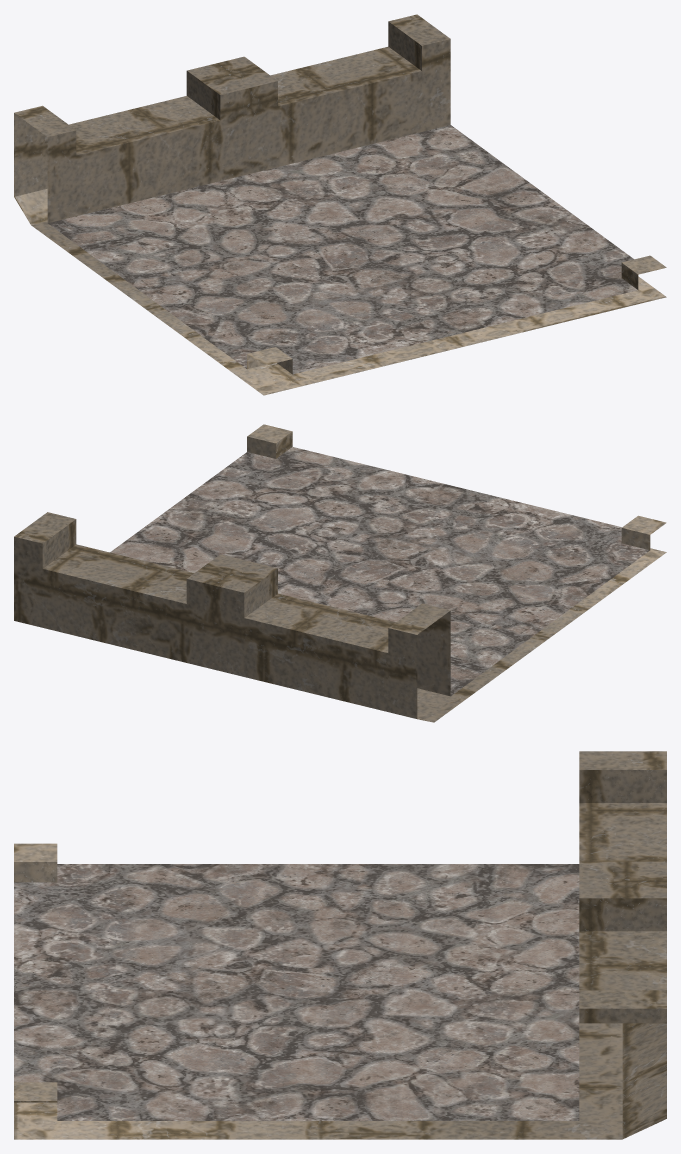
Rendered from ModuleRoofEdge.fbx.
3 renders of one model, top to bottom at view 1: azimuth 30°, elevation 25°; view 2: azimuth 150°, elevation 25°; view 3: azimuth 270°, elevation 25°, orthographic. The views are drawn at different scales.
Visible parts, largest first — view 1: ModuleRoofFloorTileEdge, ModuleRoofEdge, ModuleRoofFloorEdgeEdge; view 2: ModuleRoofFloorTileEdge, ModuleRoofEdge, ModuleRoofFloorEdgeEdge; view 3: ModuleRoofFloorTileEdge, ModuleRoofEdge, ModuleRoofFloorEdgeEdge.
Part boxes in pixels (x1,y1,x2,y2): ModuleRoofFloorTileEdge: (48,125,637,374); ModuleRoofEdge: (14,14,666,374); ModuleRoofFloorEdgeEdge: (31,221,666,395); ModuleRoofFloorTileEdge: (110,447,649,695); ModuleRoofEdge: (14,424,666,721); ModuleRoofFloorEdgeEdge: (417,548,666,722); ModuleRoofFloorTileEdge: (14,864,579,1120); ModuleRoofEdge: (14,751,666,1138); ModuleRoofFloorEdgeEdge: (14,1023,622,1139).
Bounding box in the file's own units: 300 × 71.12 × 322.
